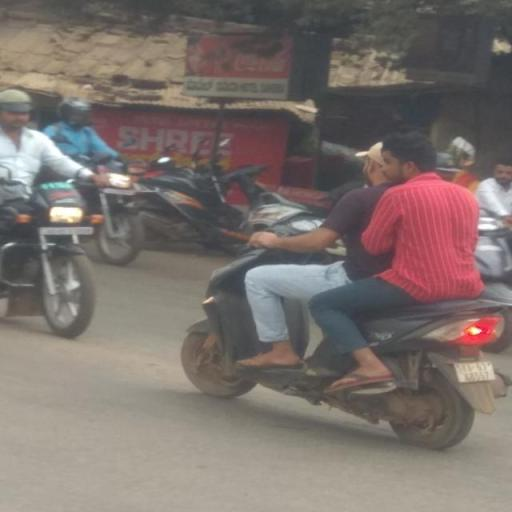bike: (180, 126, 505, 448)
withouthelmet: (384, 130, 434, 179), (364, 144, 381, 181)
